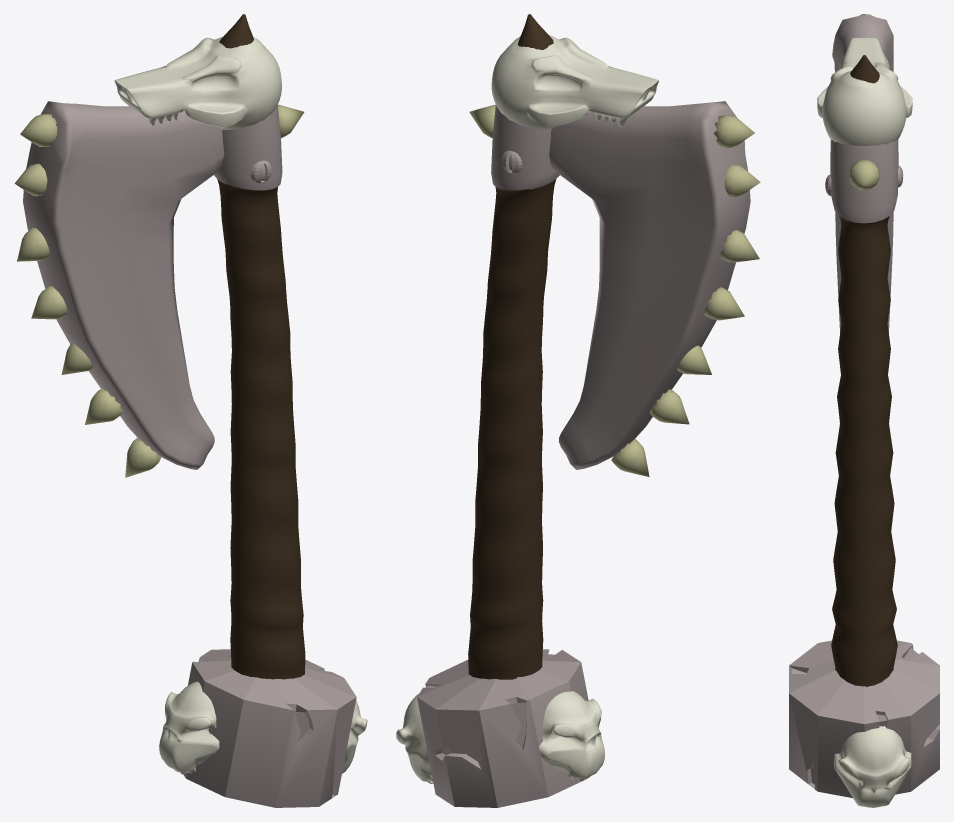
File: Jim's Axe - Corbin's Version.fbx
3 renders of one model, left to right at view 1: azimuth 30°, elevation 25°; view 2: azimuth 150°, elevation 25°; view 3: azimuth 270°, elevation 25°, orthographic. The views are drawn at different scales.
Parts seen in each view (by area): view 1: head, handle, polySurface1, skull, spikes, pSphere1, head_2, pSphere2; view 2: head, handle, polySurface1, skull, spikes, pSphere1, head_2, pSphere2; view 3: handle, polySurface1, skull, pSphere2, head_2, head, spikes_1.
Boxes of the visible parts, box(x1,y1,x2,y2) form: head: box(23, 101, 224, 469); handle: box(217, 14, 305, 679); polySurface1: box(184, 649, 356, 807); skull: box(114, 36, 281, 129); spikes: box(14, 114, 161, 477); pSphere1: box(159, 681, 219, 774); head_2: box(214, 105, 282, 190); pSphere2: box(342, 700, 367, 773); head: box(549, 101, 750, 469); handle: box(468, 14, 556, 679); polySurface1: box(417, 649, 588, 807); skull: box(491, 35, 658, 129); spikes: box(611, 115, 760, 476); pSphere1: box(538, 691, 604, 781); head_2: box(491, 105, 559, 190); pSphere2: box(396, 694, 433, 783); handle: box(831, 55, 897, 687); polySurface1: box(789, 640, 939, 797); skull: box(817, 38, 912, 146); pSphere2: box(834, 726, 911, 807); head_2: box(830, 139, 898, 223); head: box(832, 14, 893, 333); spikes_1: box(849, 160, 879, 190).
Bounding box in the file's own units: 3.33 × 7.15 × 1.37.
